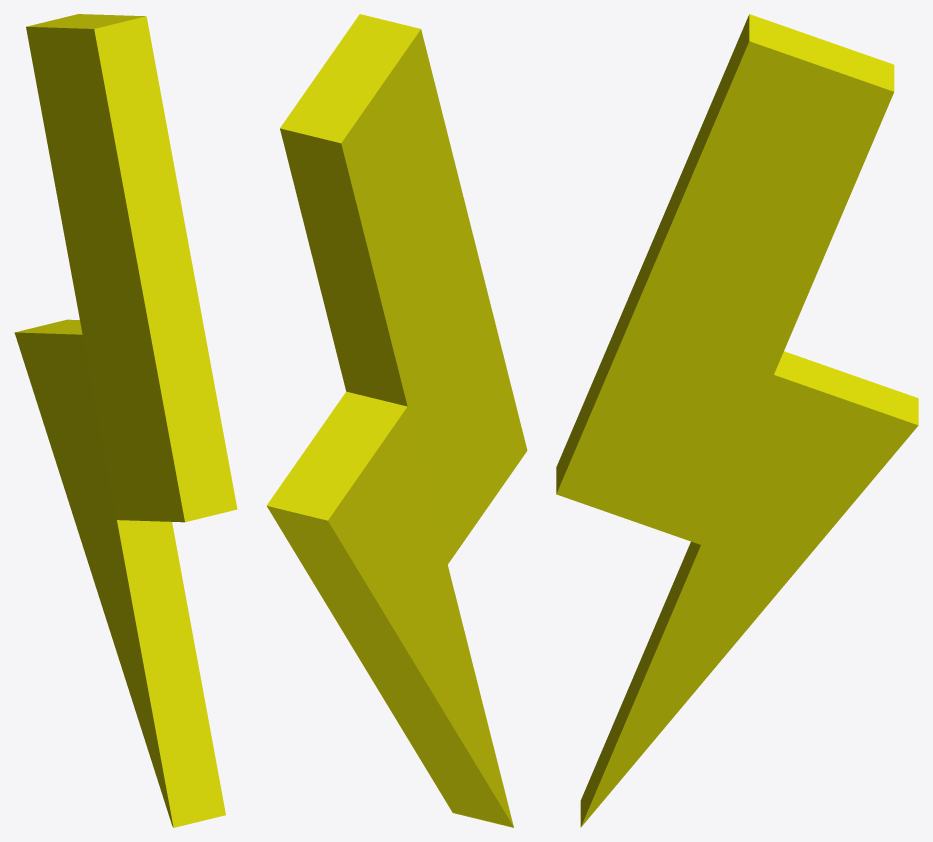
File: lightning.fbx
3 renders of one model, left to right at view 1: azimuth 30°, elevation 25°; view 2: azimuth 150°, elevation 25°; view 3: azimuth 270°, elevation 25°, orthographic. The views are drawn at different scales.
Visible parts, largest first — view 1: Cube.001; view 2: Cube.001; view 3: Cube.001.
Part boxes in pixels (bbox=[...]): Cube.001: bbox=[14, 14, 237, 827]; Cube.001: bbox=[266, 14, 527, 827]; Cube.001: bbox=[556, 14, 918, 827].
Size of the model in its own units: 24.25 by 324 by 135.
